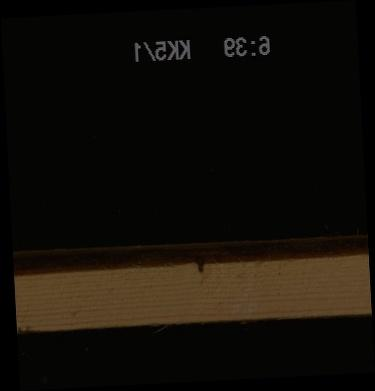wave: (12, 239, 367, 266)
